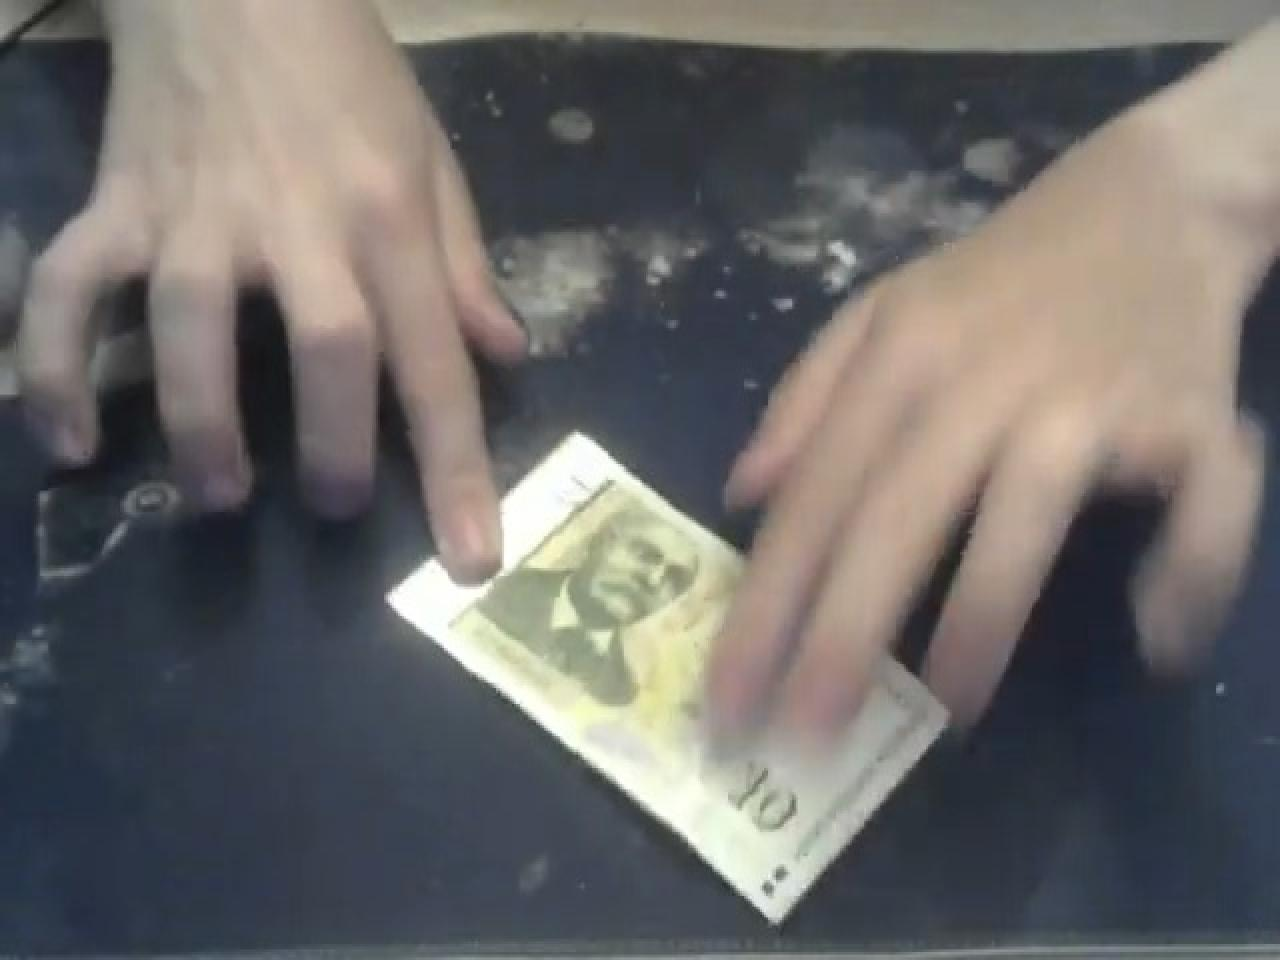10leva: (424, 432, 952, 928)
